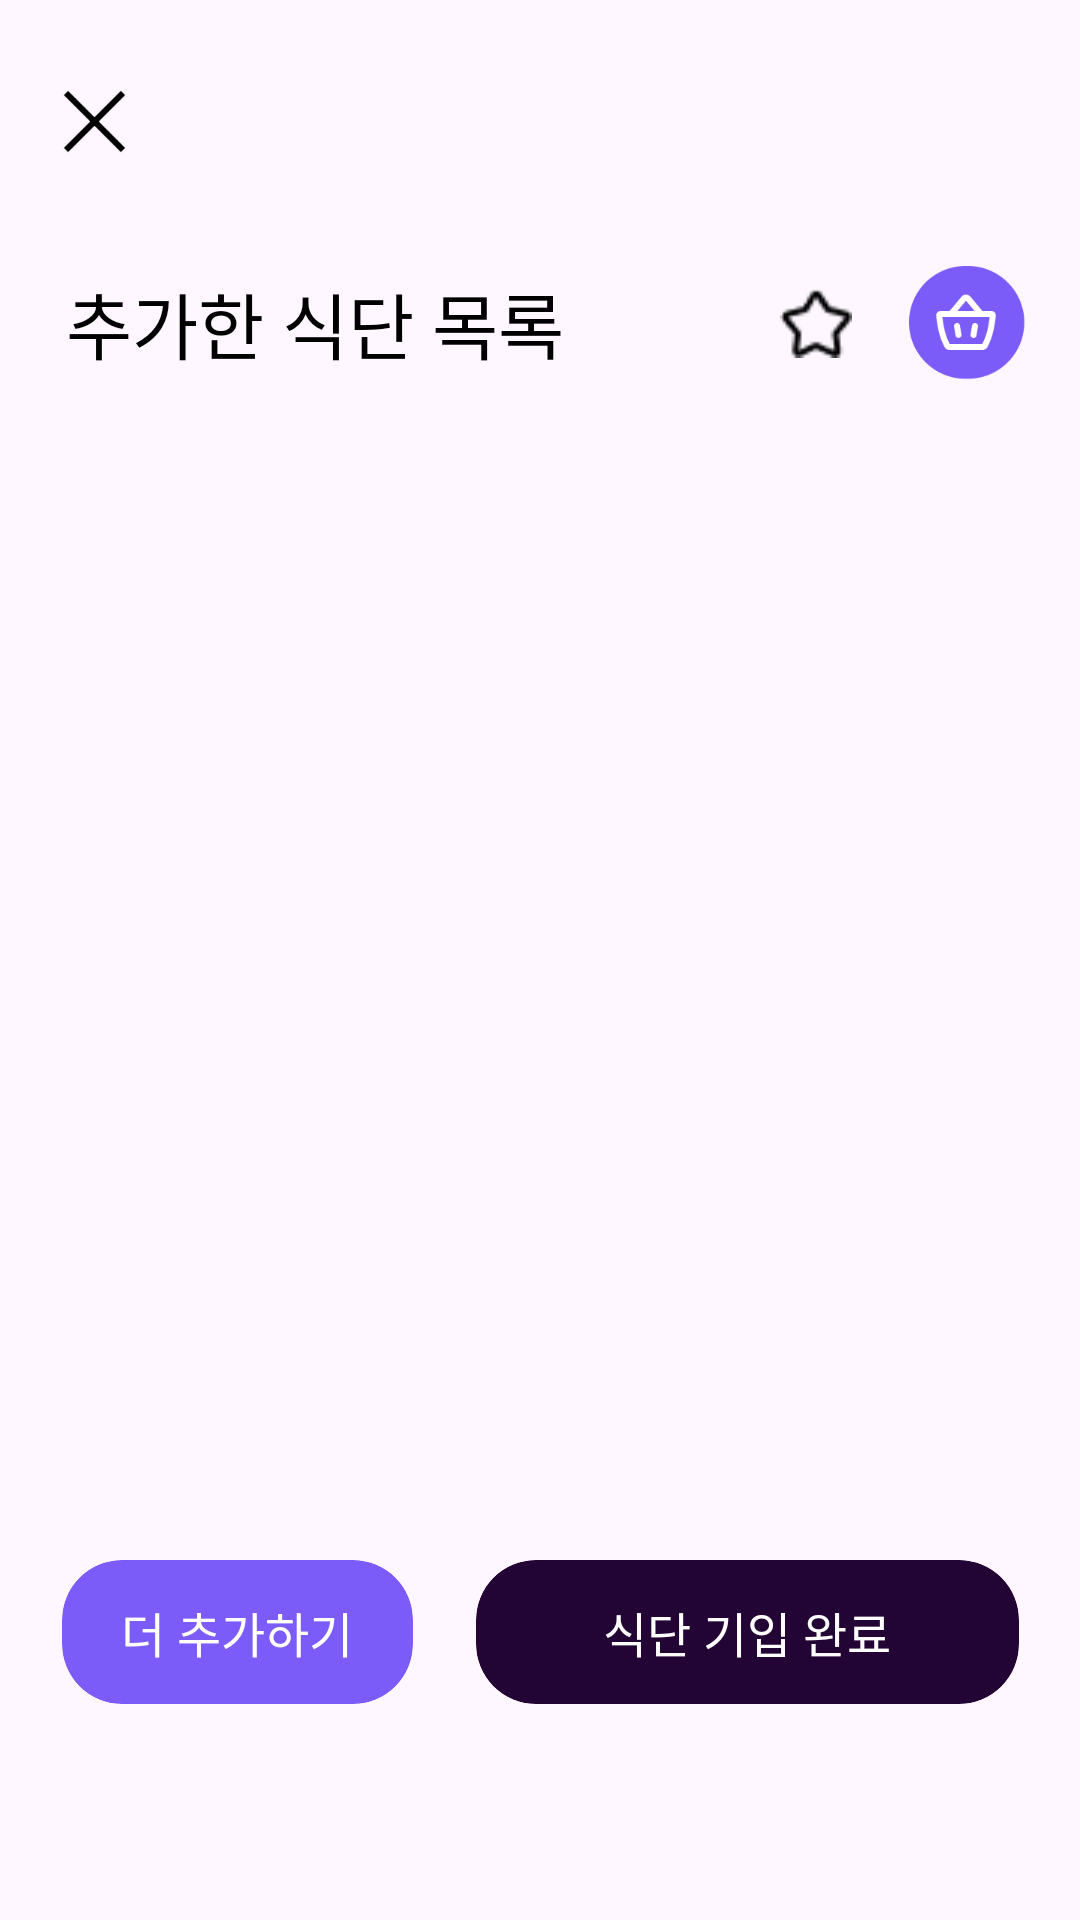

Locate icon controls on the screen. Image size 1080x1920, boxes as Rect(x1, y1, x2, y2).
cancel: Rect(64, 91, 125, 152)
market: Rect(909, 266, 1025, 379)
star: Rect(780, 290, 852, 358)
